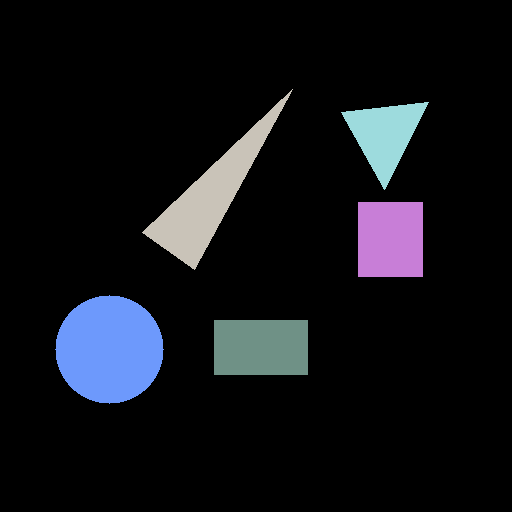circle: (55, 295, 163, 403)
rectangle: (214, 320, 307, 374), (358, 202, 422, 276)
triangle: (142, 89, 292, 269), (341, 102, 428, 189)
